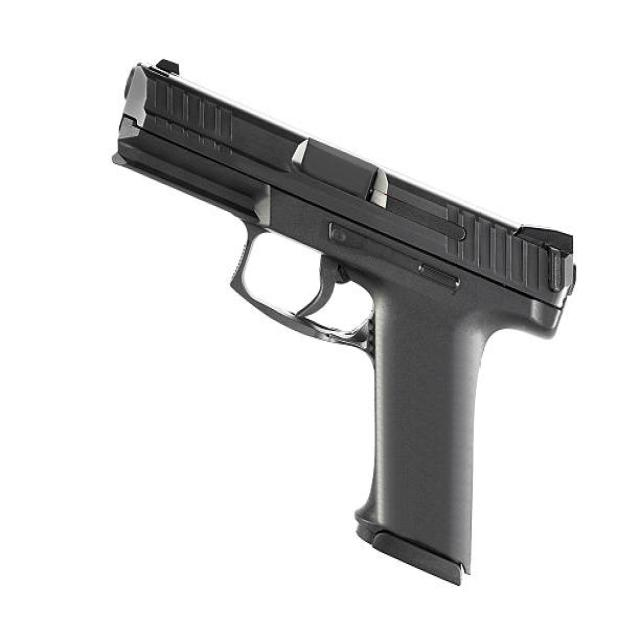pistol: (106, 55, 584, 592)
